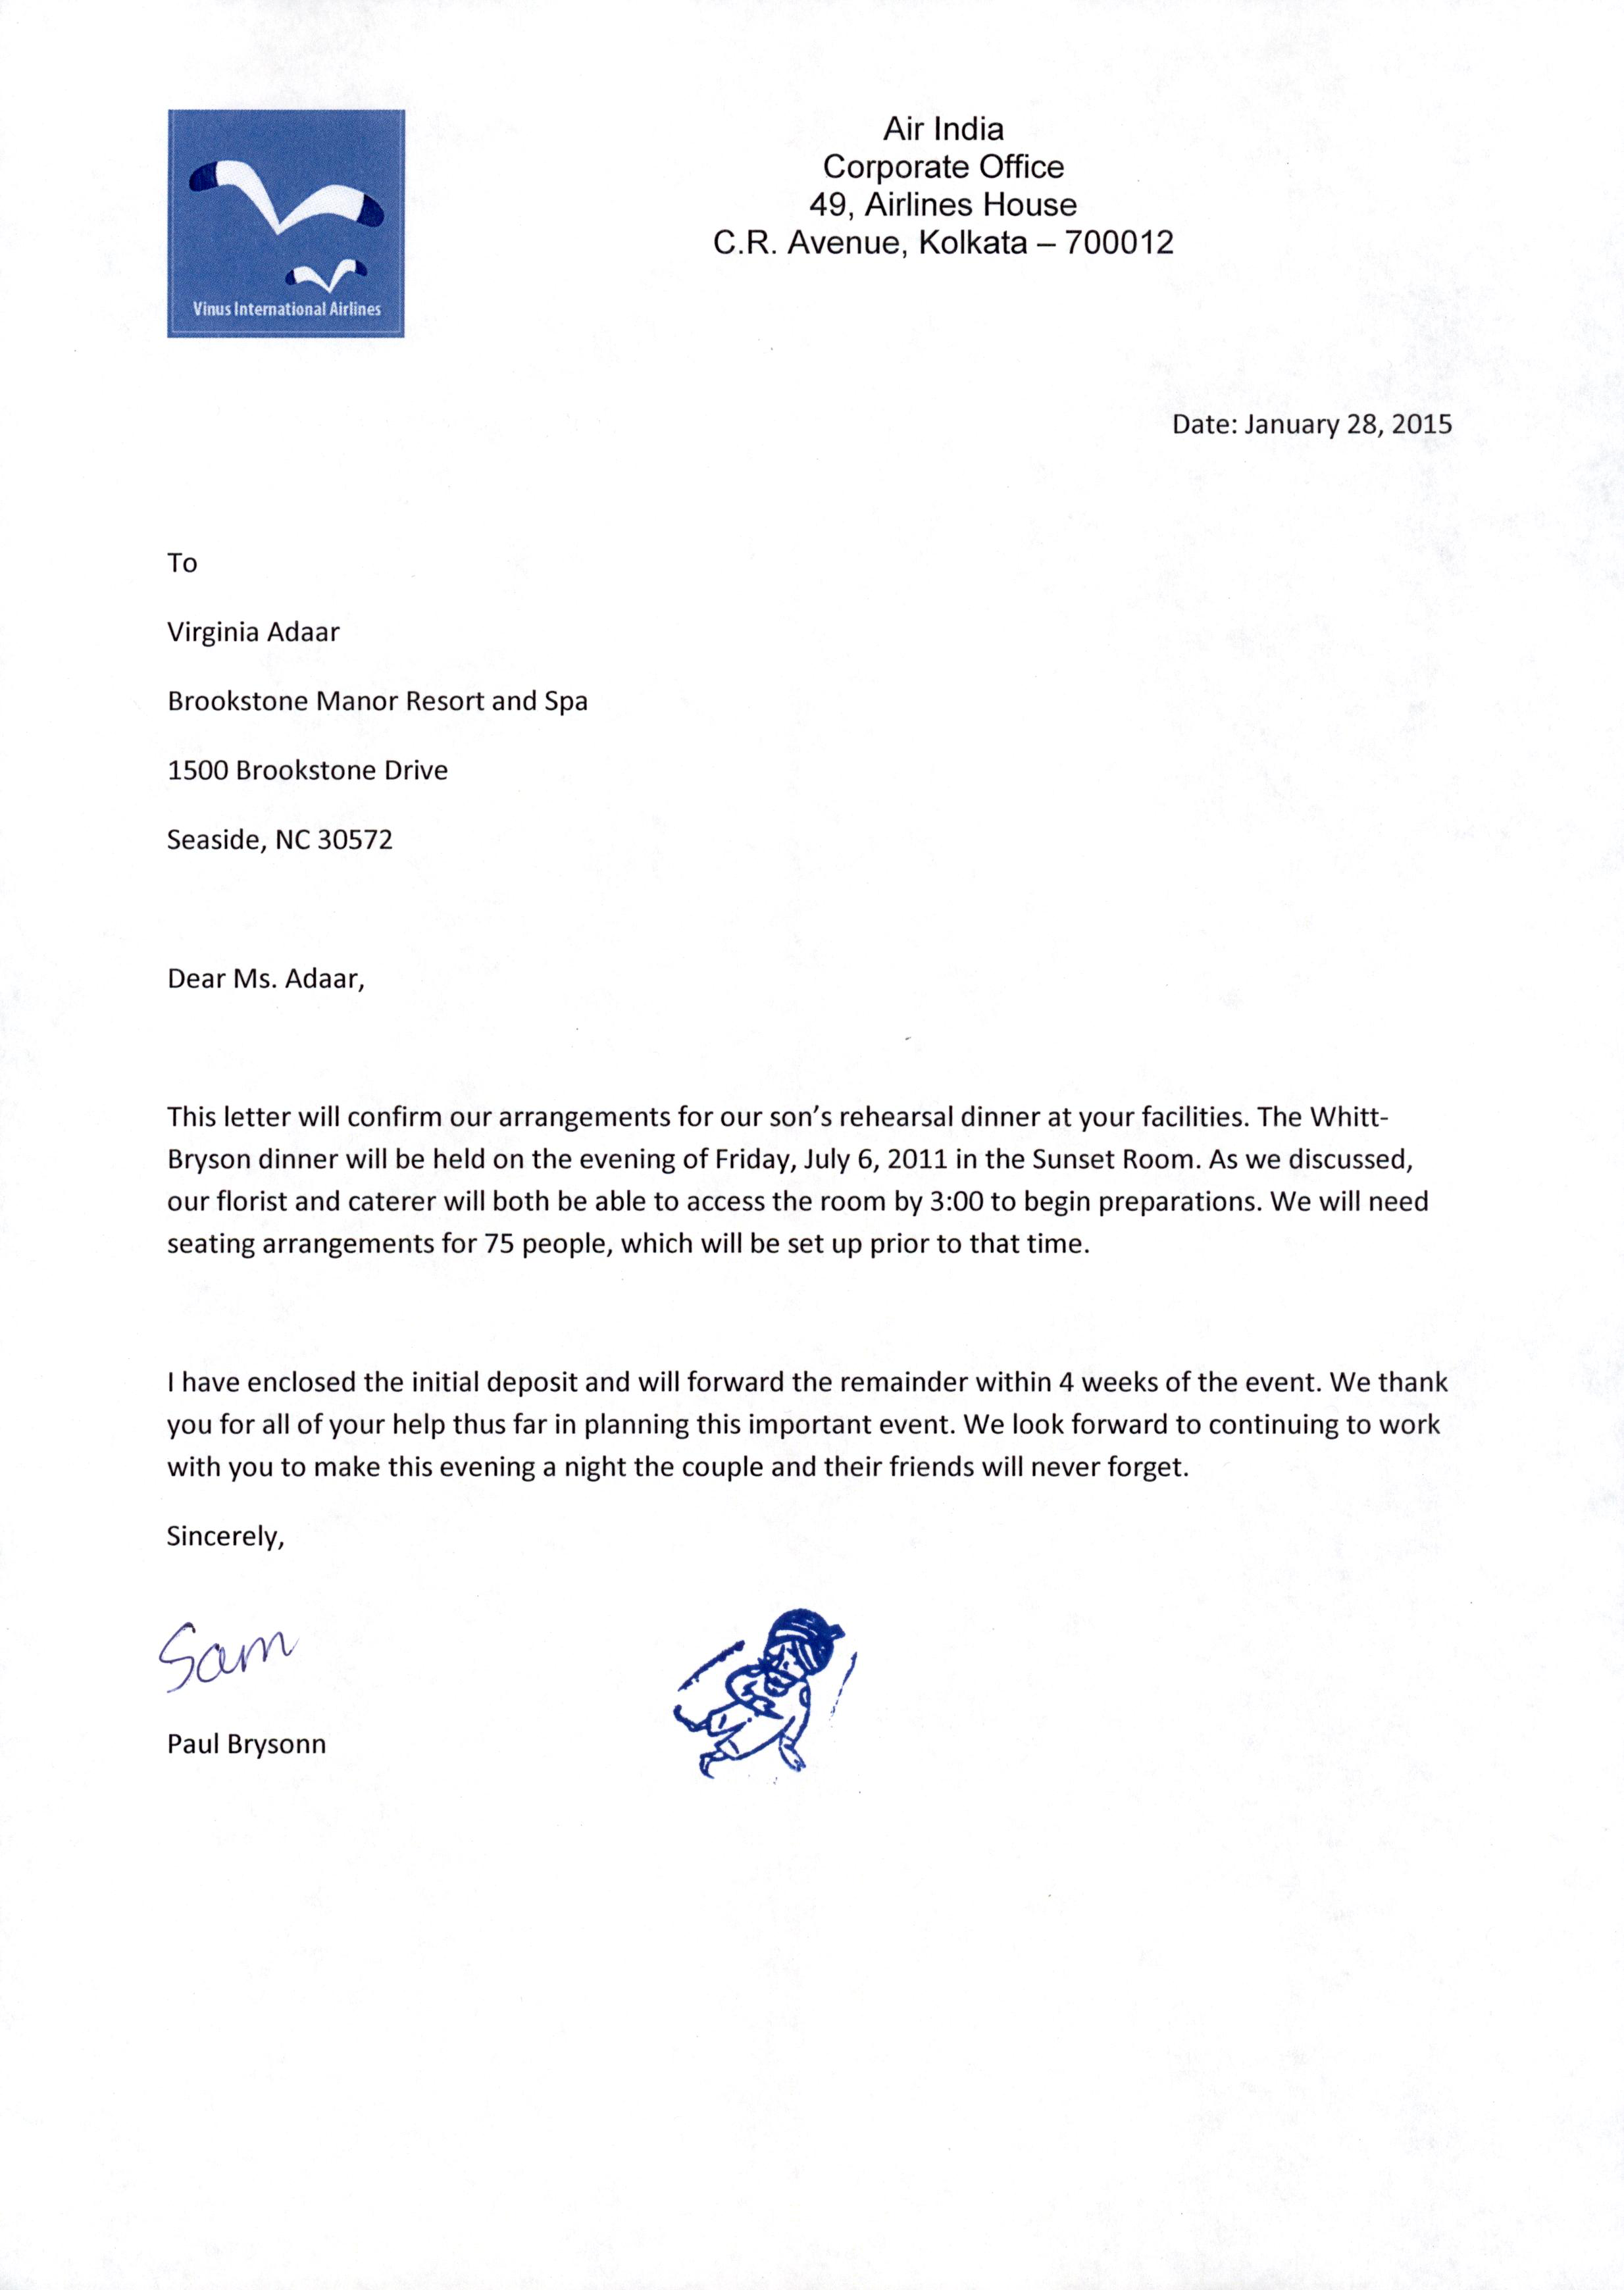Signature: (153, 1608, 301, 1707)
